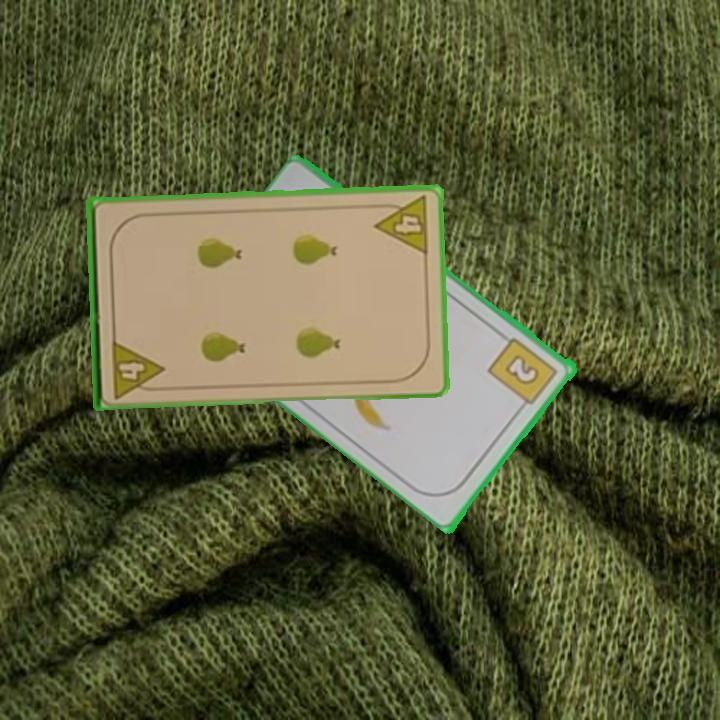2b: (485, 333, 561, 414)
4p: (371, 193, 432, 258), (108, 336, 167, 401)
